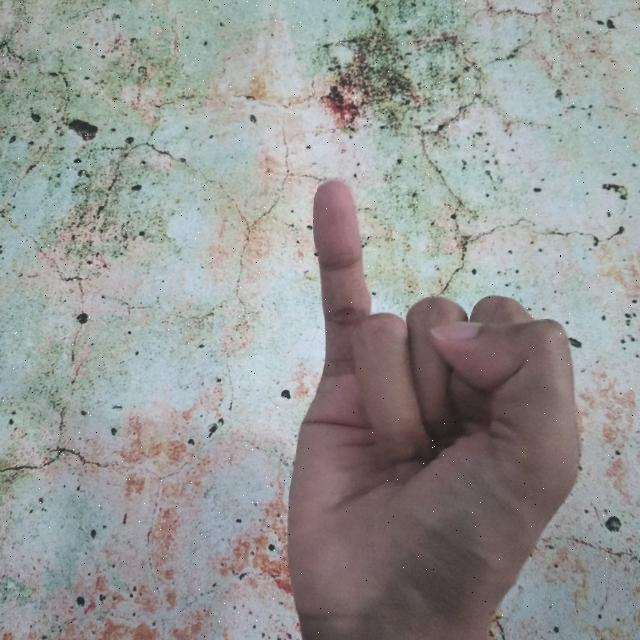I: (280, 176, 584, 640)
